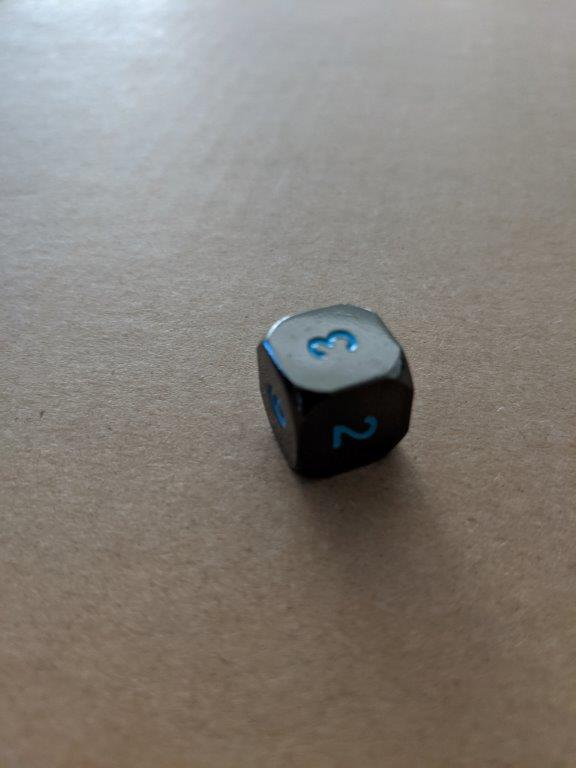d6-3: (254, 303, 416, 483)
